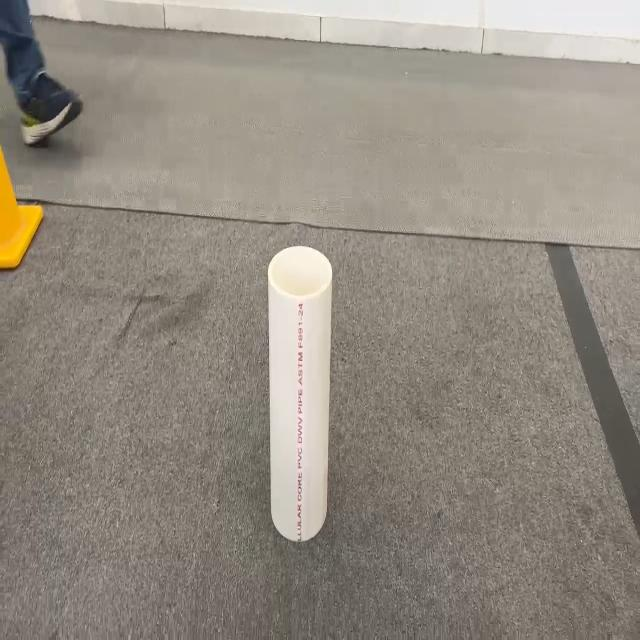coral: (266, 245, 332, 542)
